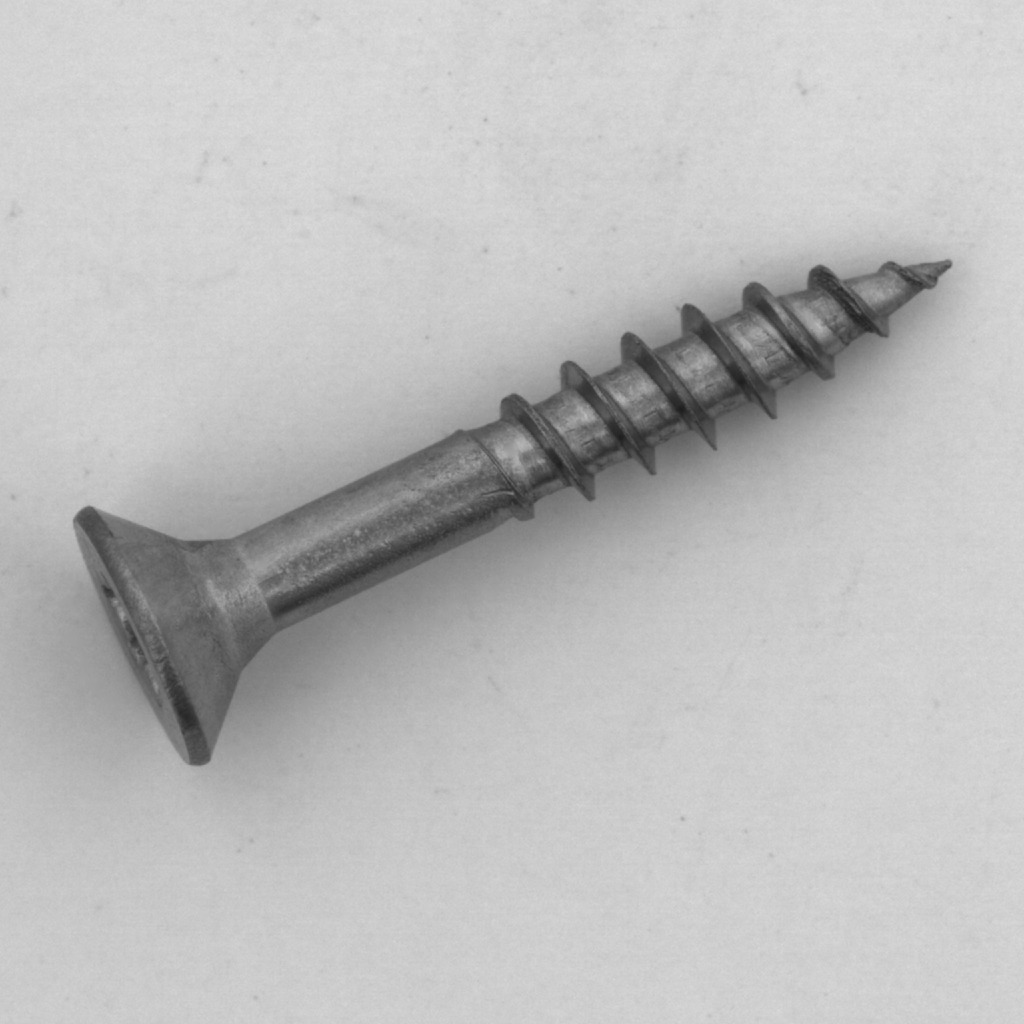good: (58, 234, 968, 783)
